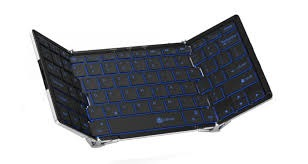keyboard: (28, 24, 274, 140)
